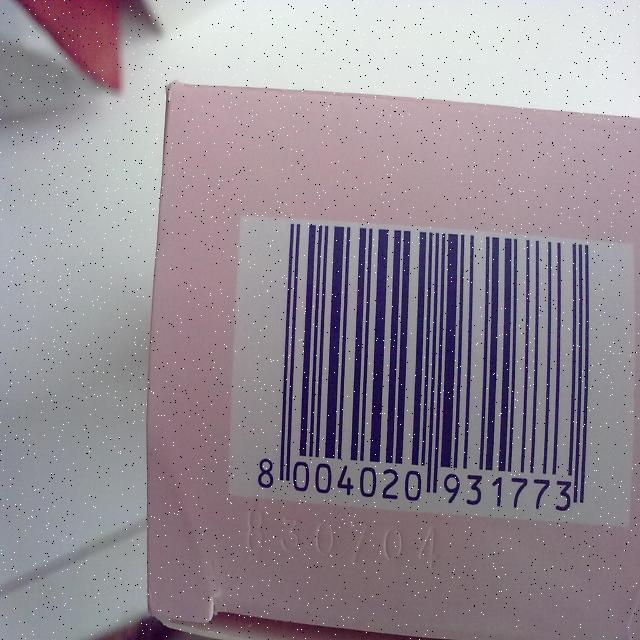barcode: (251, 213, 598, 528)
